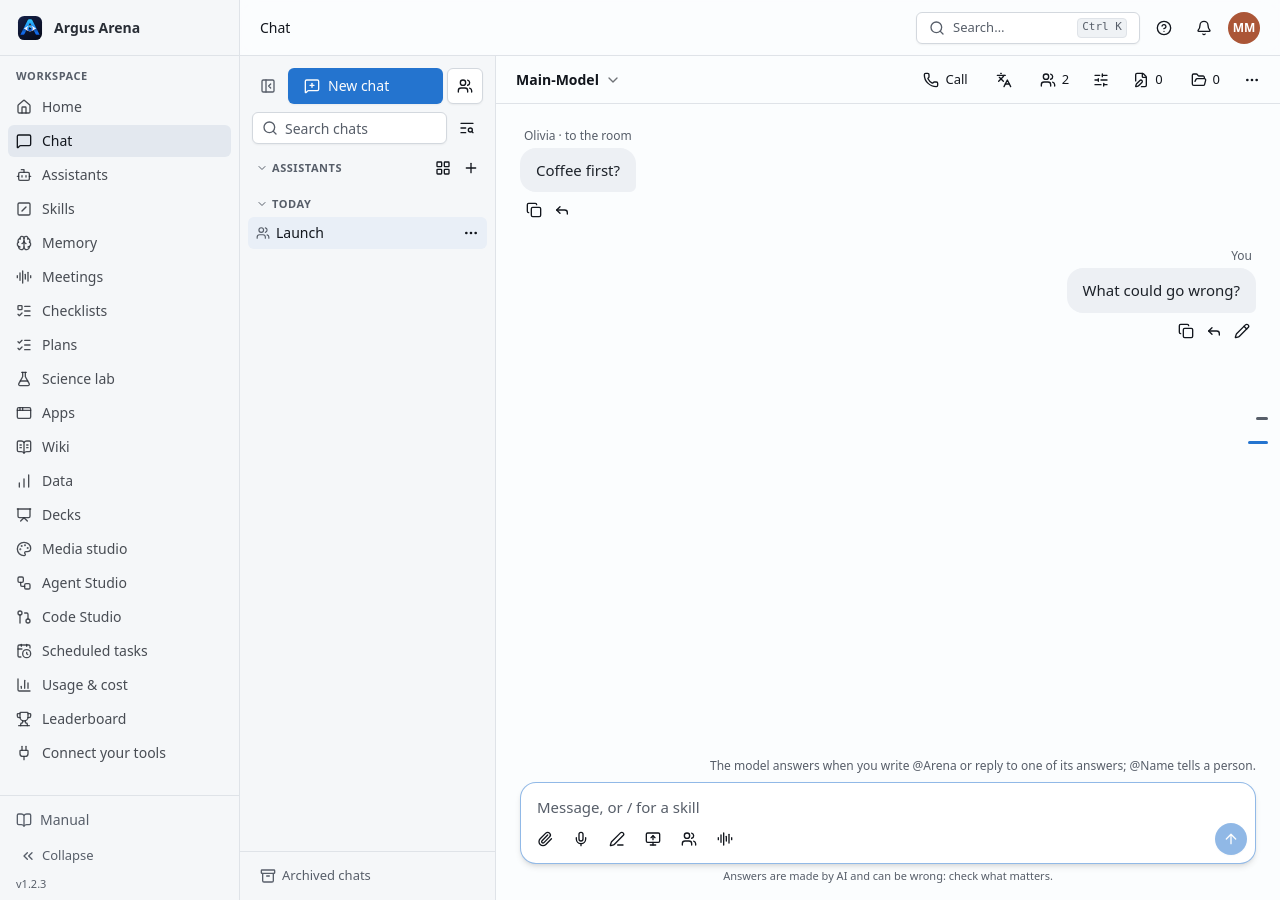
Test: rooms › reads the room in the reader's language, others' messages translated, the original a click away
Expected: the text "Coffee first?" is shown, [520,148,636,192]
Click the button named "Read the room in your language". click: click(1004, 80)
box: [984,64,1024,96]
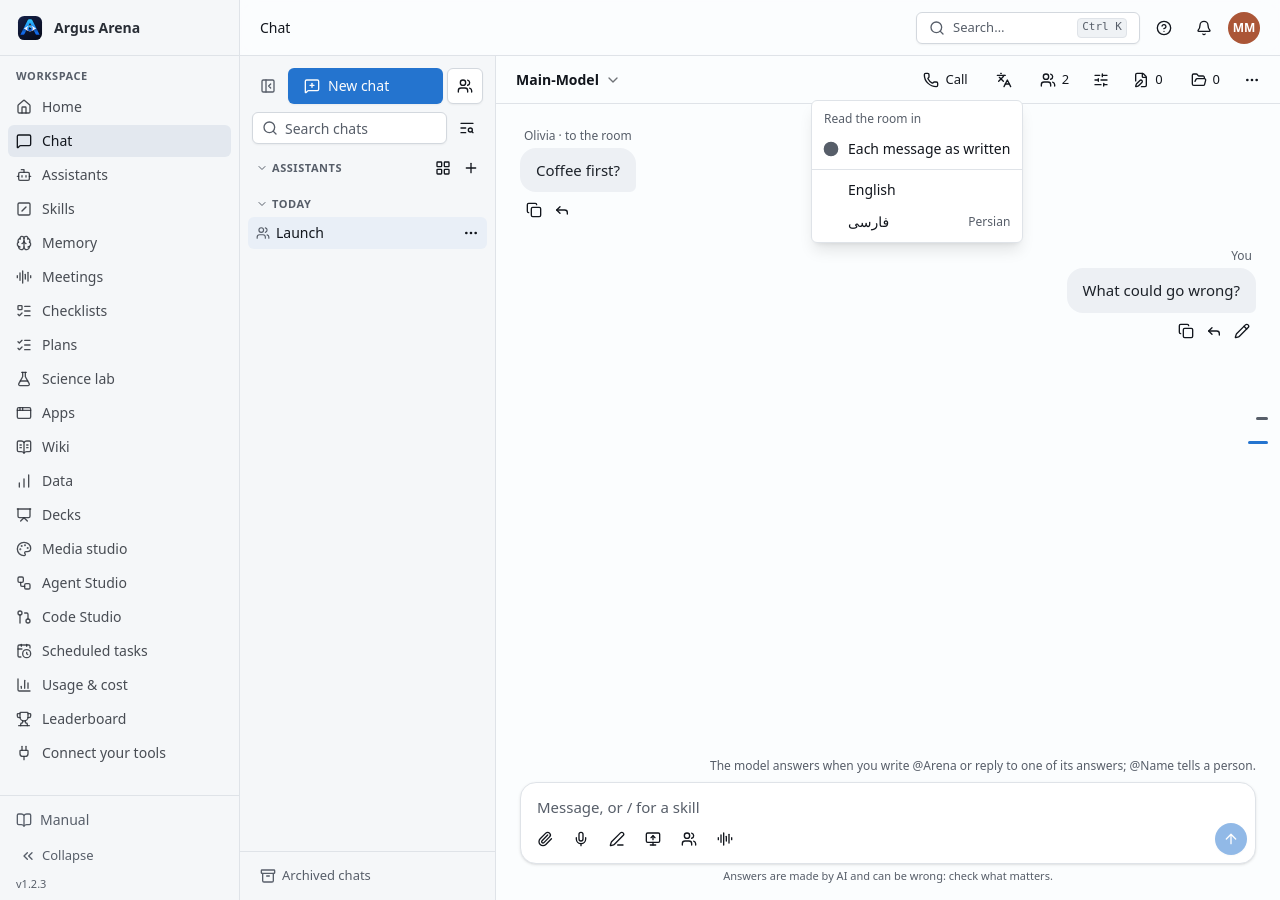
Click the menu item "فارسی Persian". click: click(869, 222)
box: [848,212,1010,231]
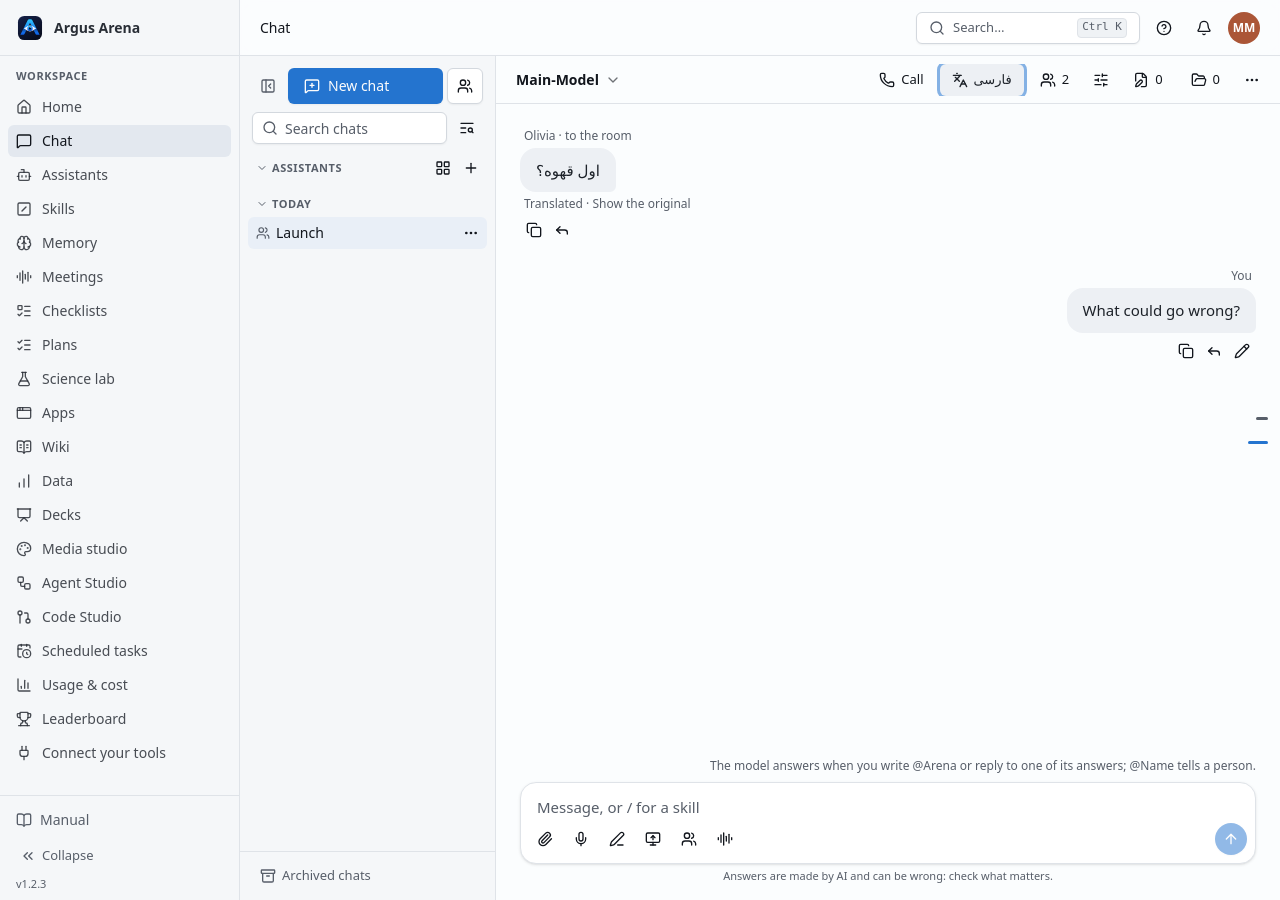
Expected: the text "What could go wrong?" is shown, [1066,288,1256,333]
Expected: the text "اول قهوه؟" is shown, [520,148,616,192]
Click the button "Translated · Show the original". click: click(607, 204)
box: [520,196,695,212]
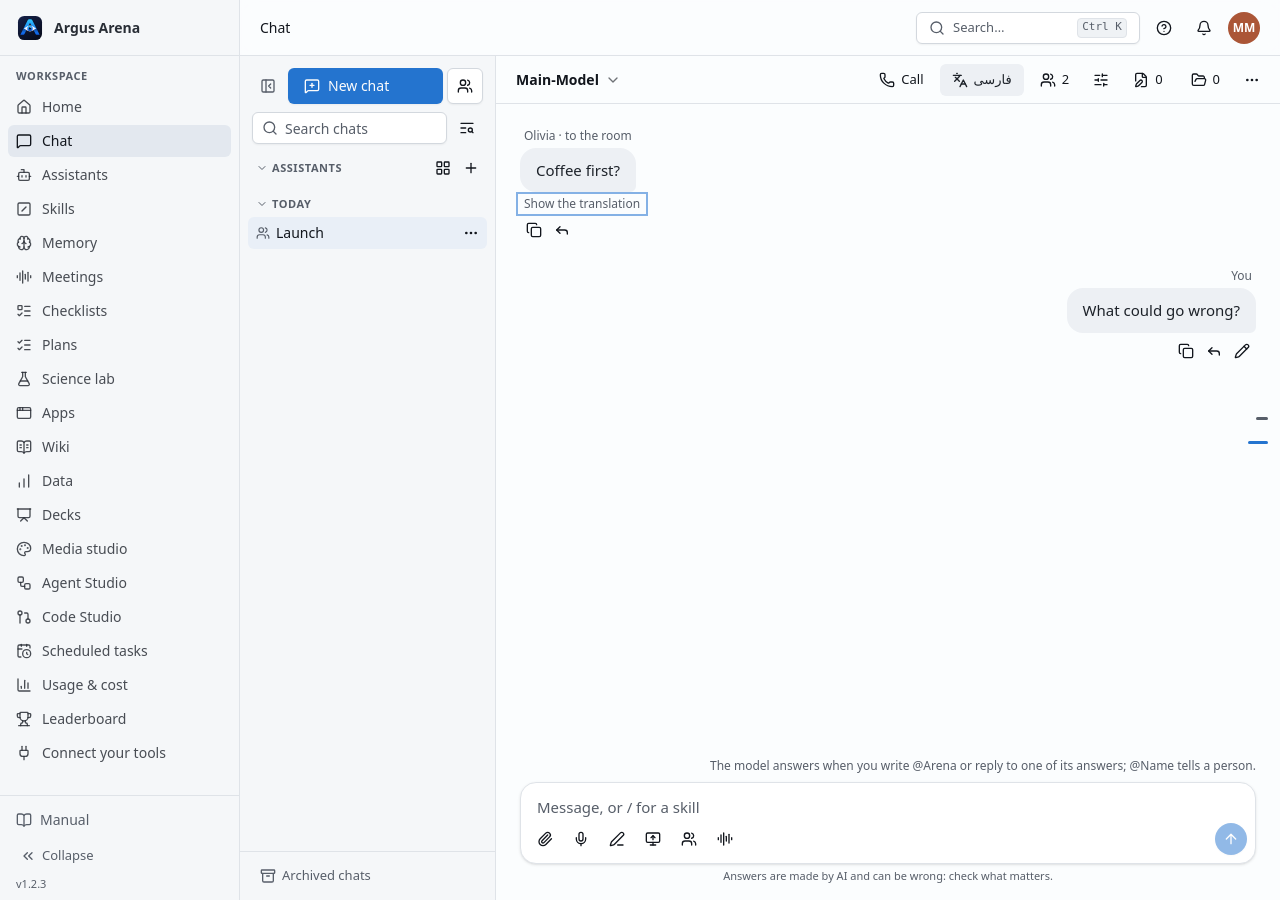
Expected: the button with aria-label "Reading in Persian" is shown, [940,64,1024,96]
Expected: the text "Coffee first?" is shown, [520,148,636,192]
